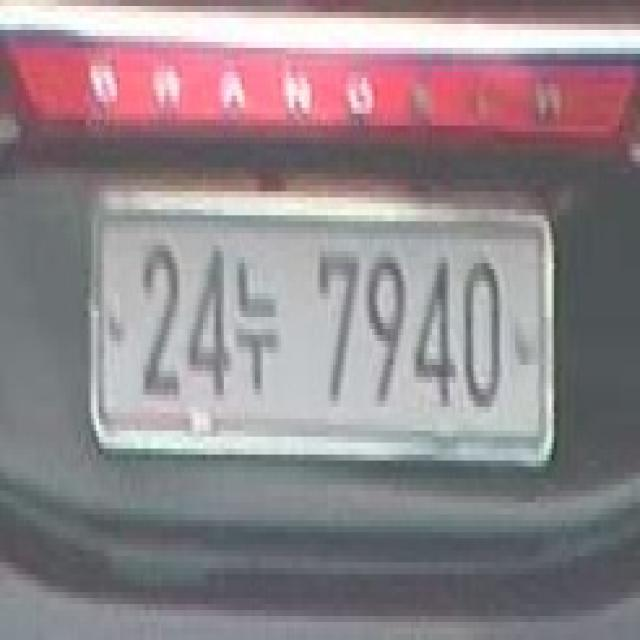0: (463, 242, 507, 418)
2: (136, 233, 182, 396)
4: (412, 240, 459, 410), (189, 234, 234, 402)
7: (312, 234, 362, 411)
9: (362, 236, 408, 416)
license_plate: (94, 196, 552, 458)
nu: (238, 247, 281, 404)
